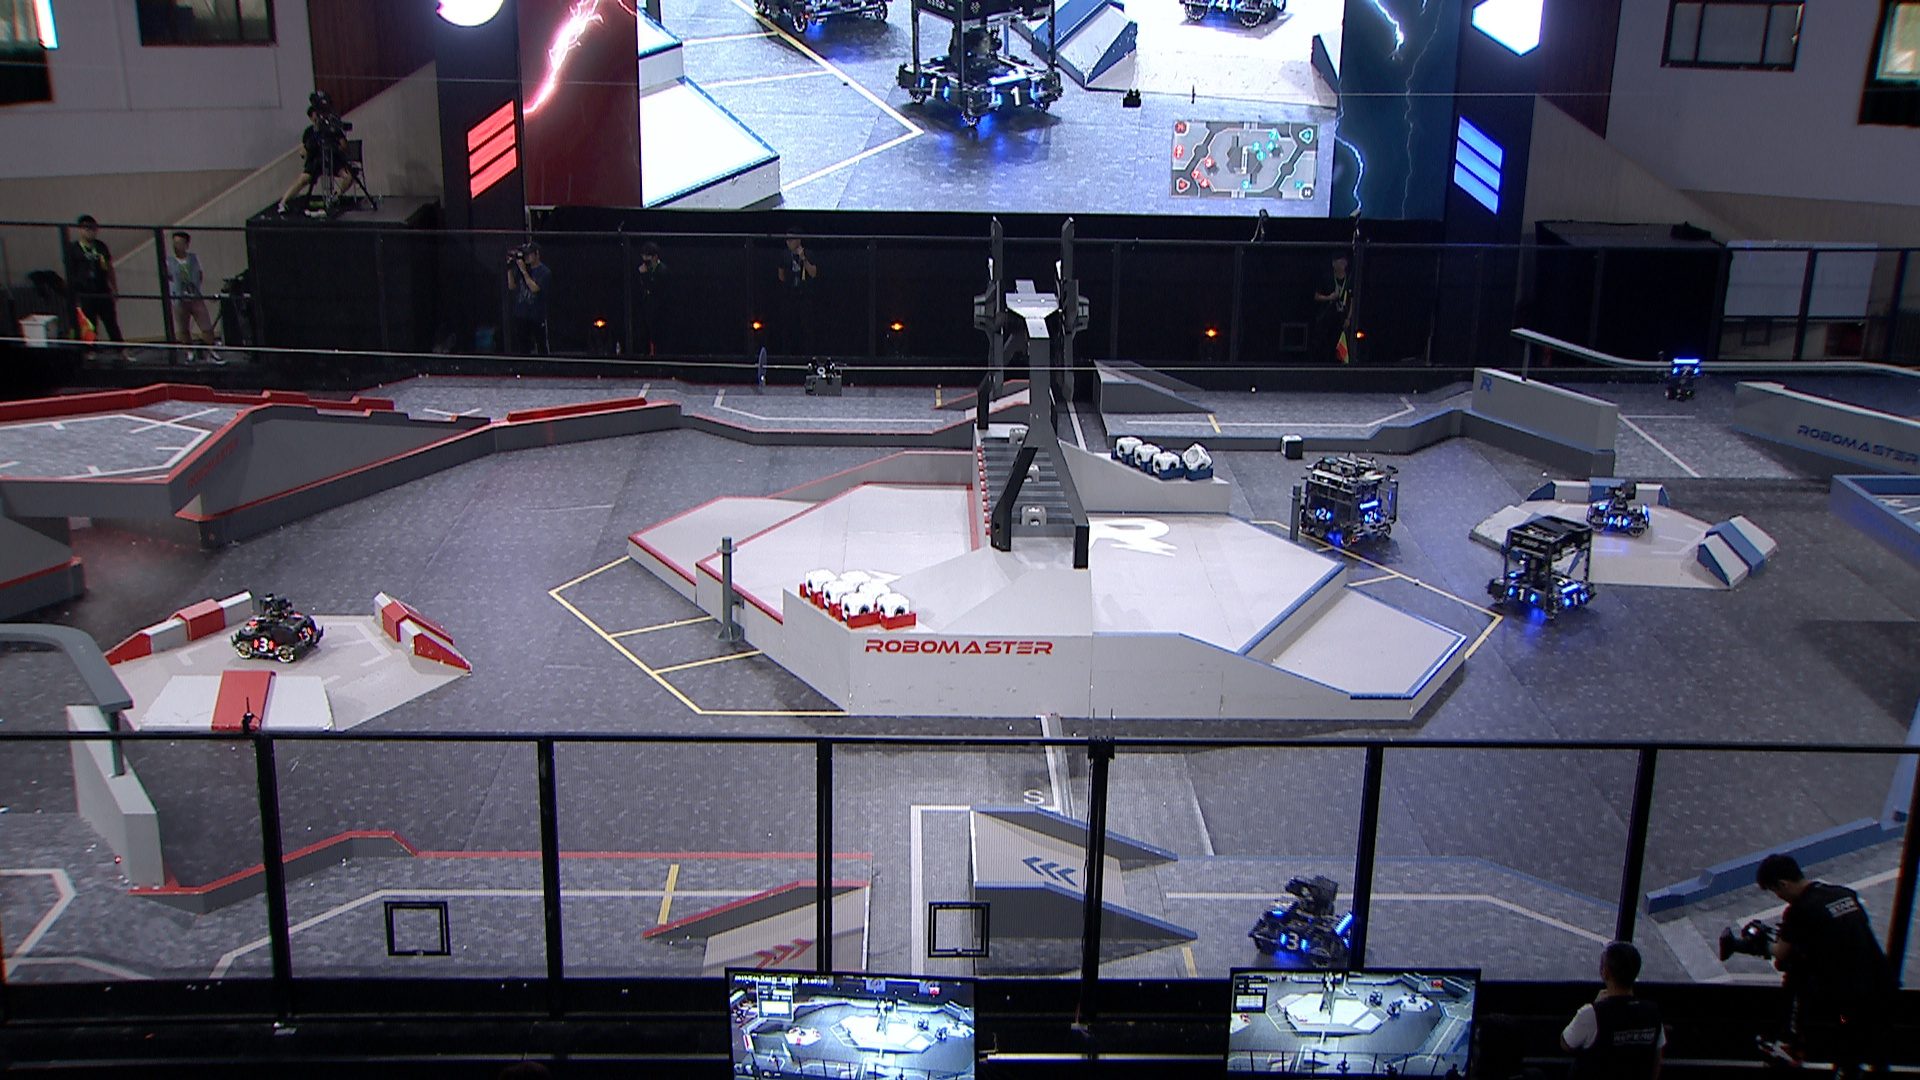armor: (1506, 584, 1542, 604), (1278, 930, 1307, 953), (1563, 591, 1588, 609), (251, 636, 276, 654), (1269, 898, 1294, 915), (1671, 363, 1700, 377), (1313, 506, 1335, 524), (1607, 514, 1629, 529), (244, 615, 266, 626), (299, 626, 313, 644), (1364, 510, 1378, 524)
car: (1485, 514, 1596, 624), (1247, 876, 1358, 971), (1299, 452, 1400, 550), (229, 595, 324, 665), (1585, 480, 1650, 538)
ignore: (894, 0, 1060, 128)
watcher: (1656, 352, 1702, 404)
